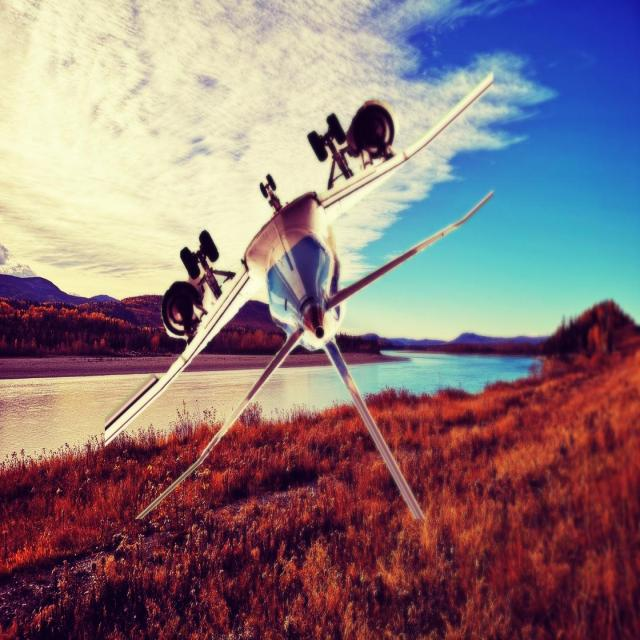airplane: (103, 70, 495, 523)
